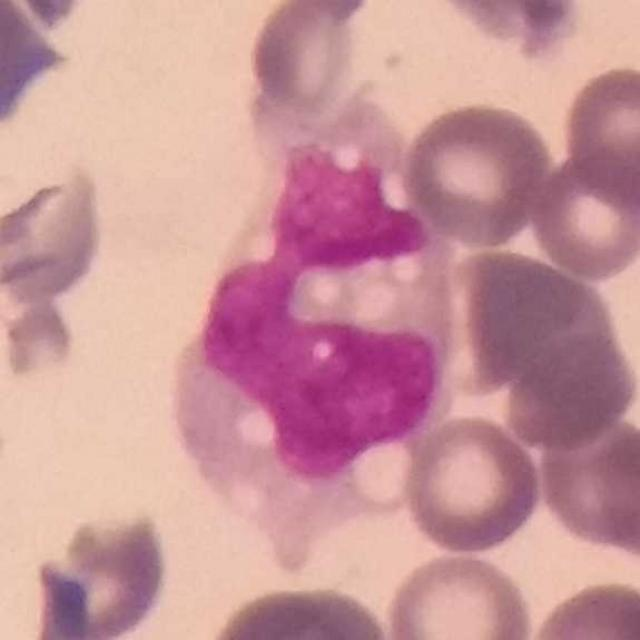mono: (168, 88, 460, 568)
